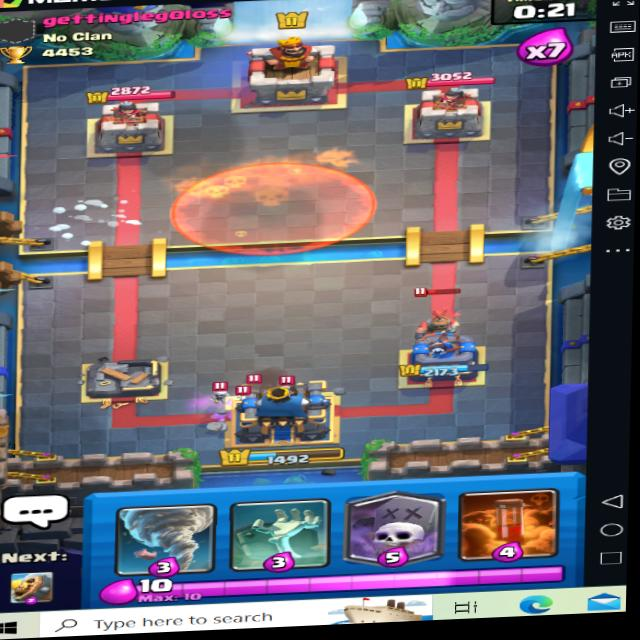poison: (167, 154, 377, 261)
royal-recruits: (408, 291, 469, 343)
skeleton: (209, 379, 242, 404)
